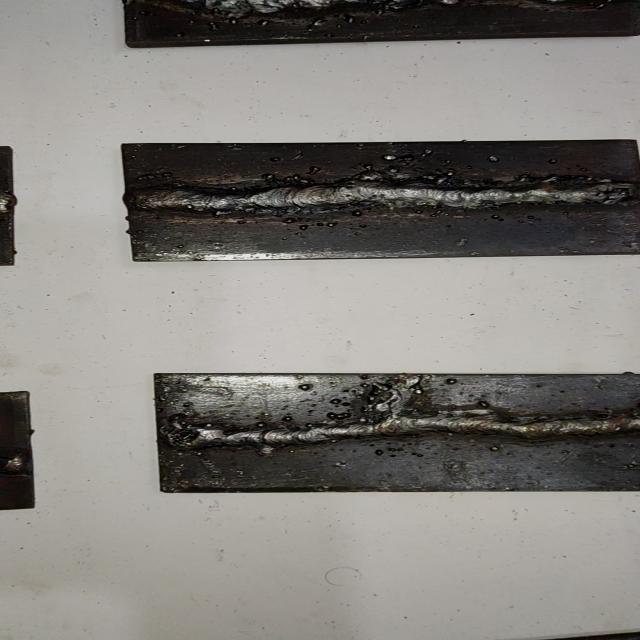Defect: (196, 0, 441, 32), (358, 374, 434, 442), (348, 152, 436, 186), (590, 166, 640, 208), (158, 416, 210, 456), (264, 169, 319, 190)
Welding Line: (132, 178, 639, 214), (160, 411, 640, 449)
Workpiece: (116, 136, 640, 262), (140, 369, 640, 499), (119, 0, 640, 51)
